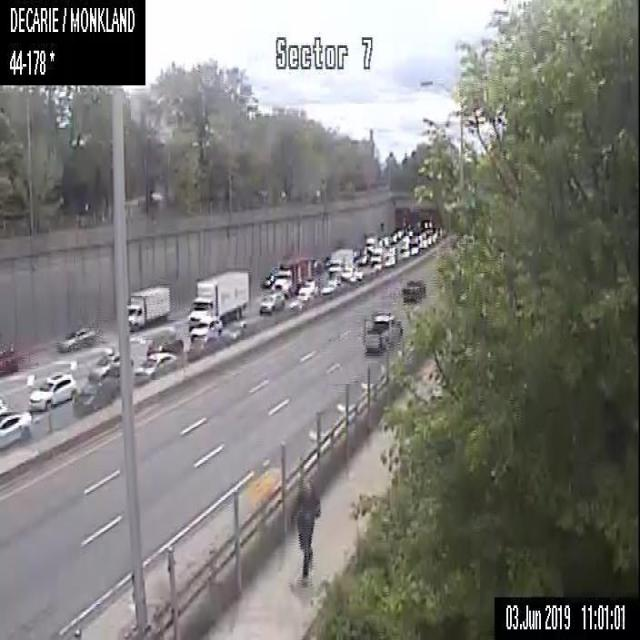pedestrian: (290, 483, 320, 588)
vehicle: (187, 268, 248, 329), (27, 371, 77, 415), (72, 378, 122, 415), (130, 285, 168, 332), (362, 313, 402, 352), (276, 254, 313, 296), (134, 351, 179, 384), (89, 353, 135, 385), (0, 409, 31, 448), (56, 326, 94, 351), (147, 332, 185, 356), (189, 316, 222, 340), (259, 290, 286, 315), (329, 245, 352, 274), (401, 280, 424, 303), (0, 344, 14, 373), (298, 278, 317, 296), (320, 277, 340, 293), (362, 234, 376, 253), (370, 247, 382, 263)
